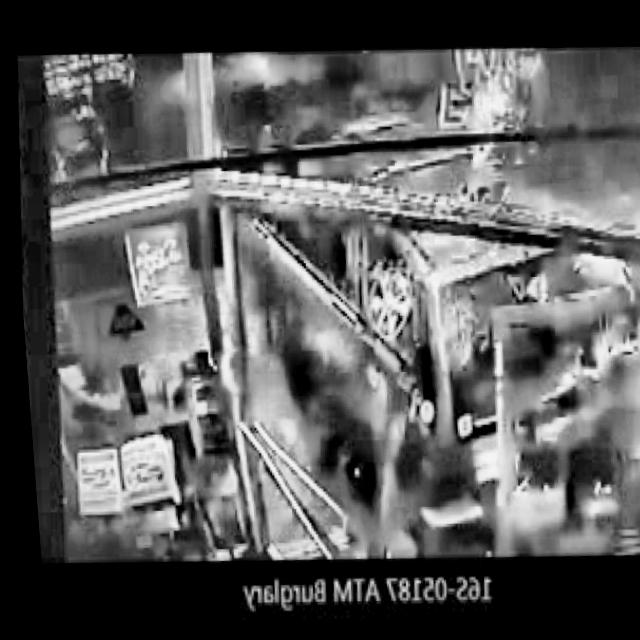burglary: (248, 139, 640, 582)
